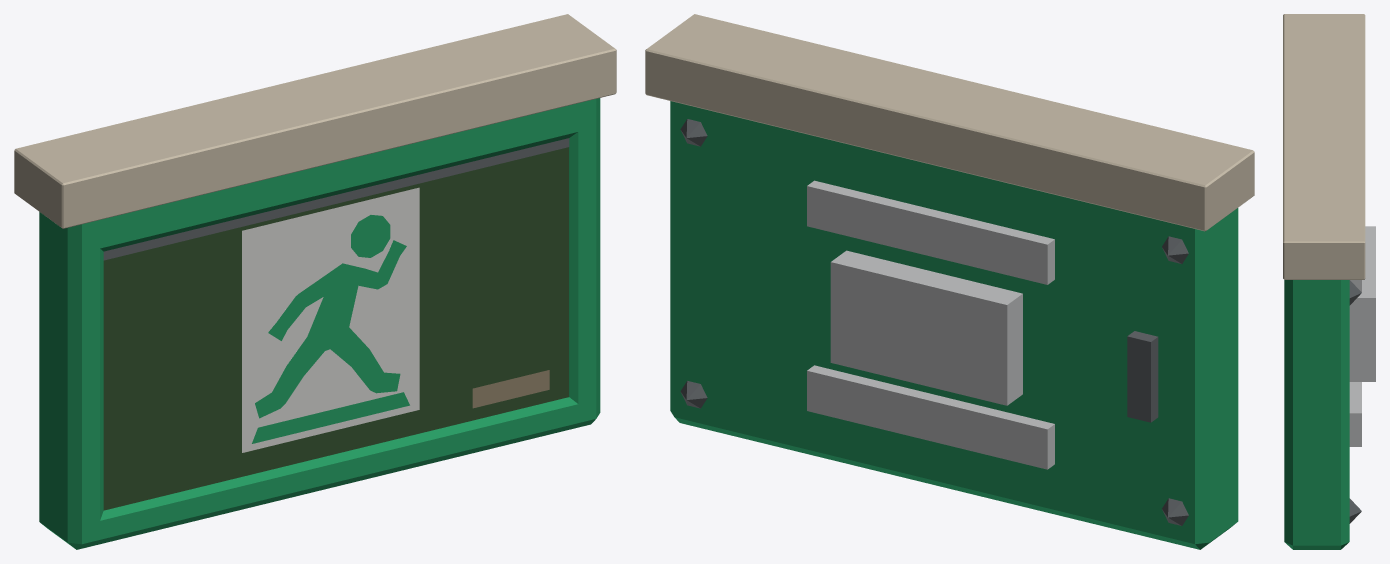
Rendered from exit-light.glb.
3 renders of one model, left to right at view 1: azimuth 30°, elevation 25°; view 2: azimuth 150°, elevation 25°; view 3: azimuth 270°, elevation 25°, orthographic. The views are drawn at different scales.
Visible parts, largest first — view 1: illuminated-exit-sign; view 2: illuminated-exit-sign; view 3: illuminated-exit-sign.
Part boxes in pixels (x1,y1,x2,y2): illuminated-exit-sign: (14,14,616,549); illuminated-exit-sign: (645,14,1254,549); illuminated-exit-sign: (1283,14,1375,549).
Size of the model in its own units: 0.35 by 0.229 by 0.0602.
